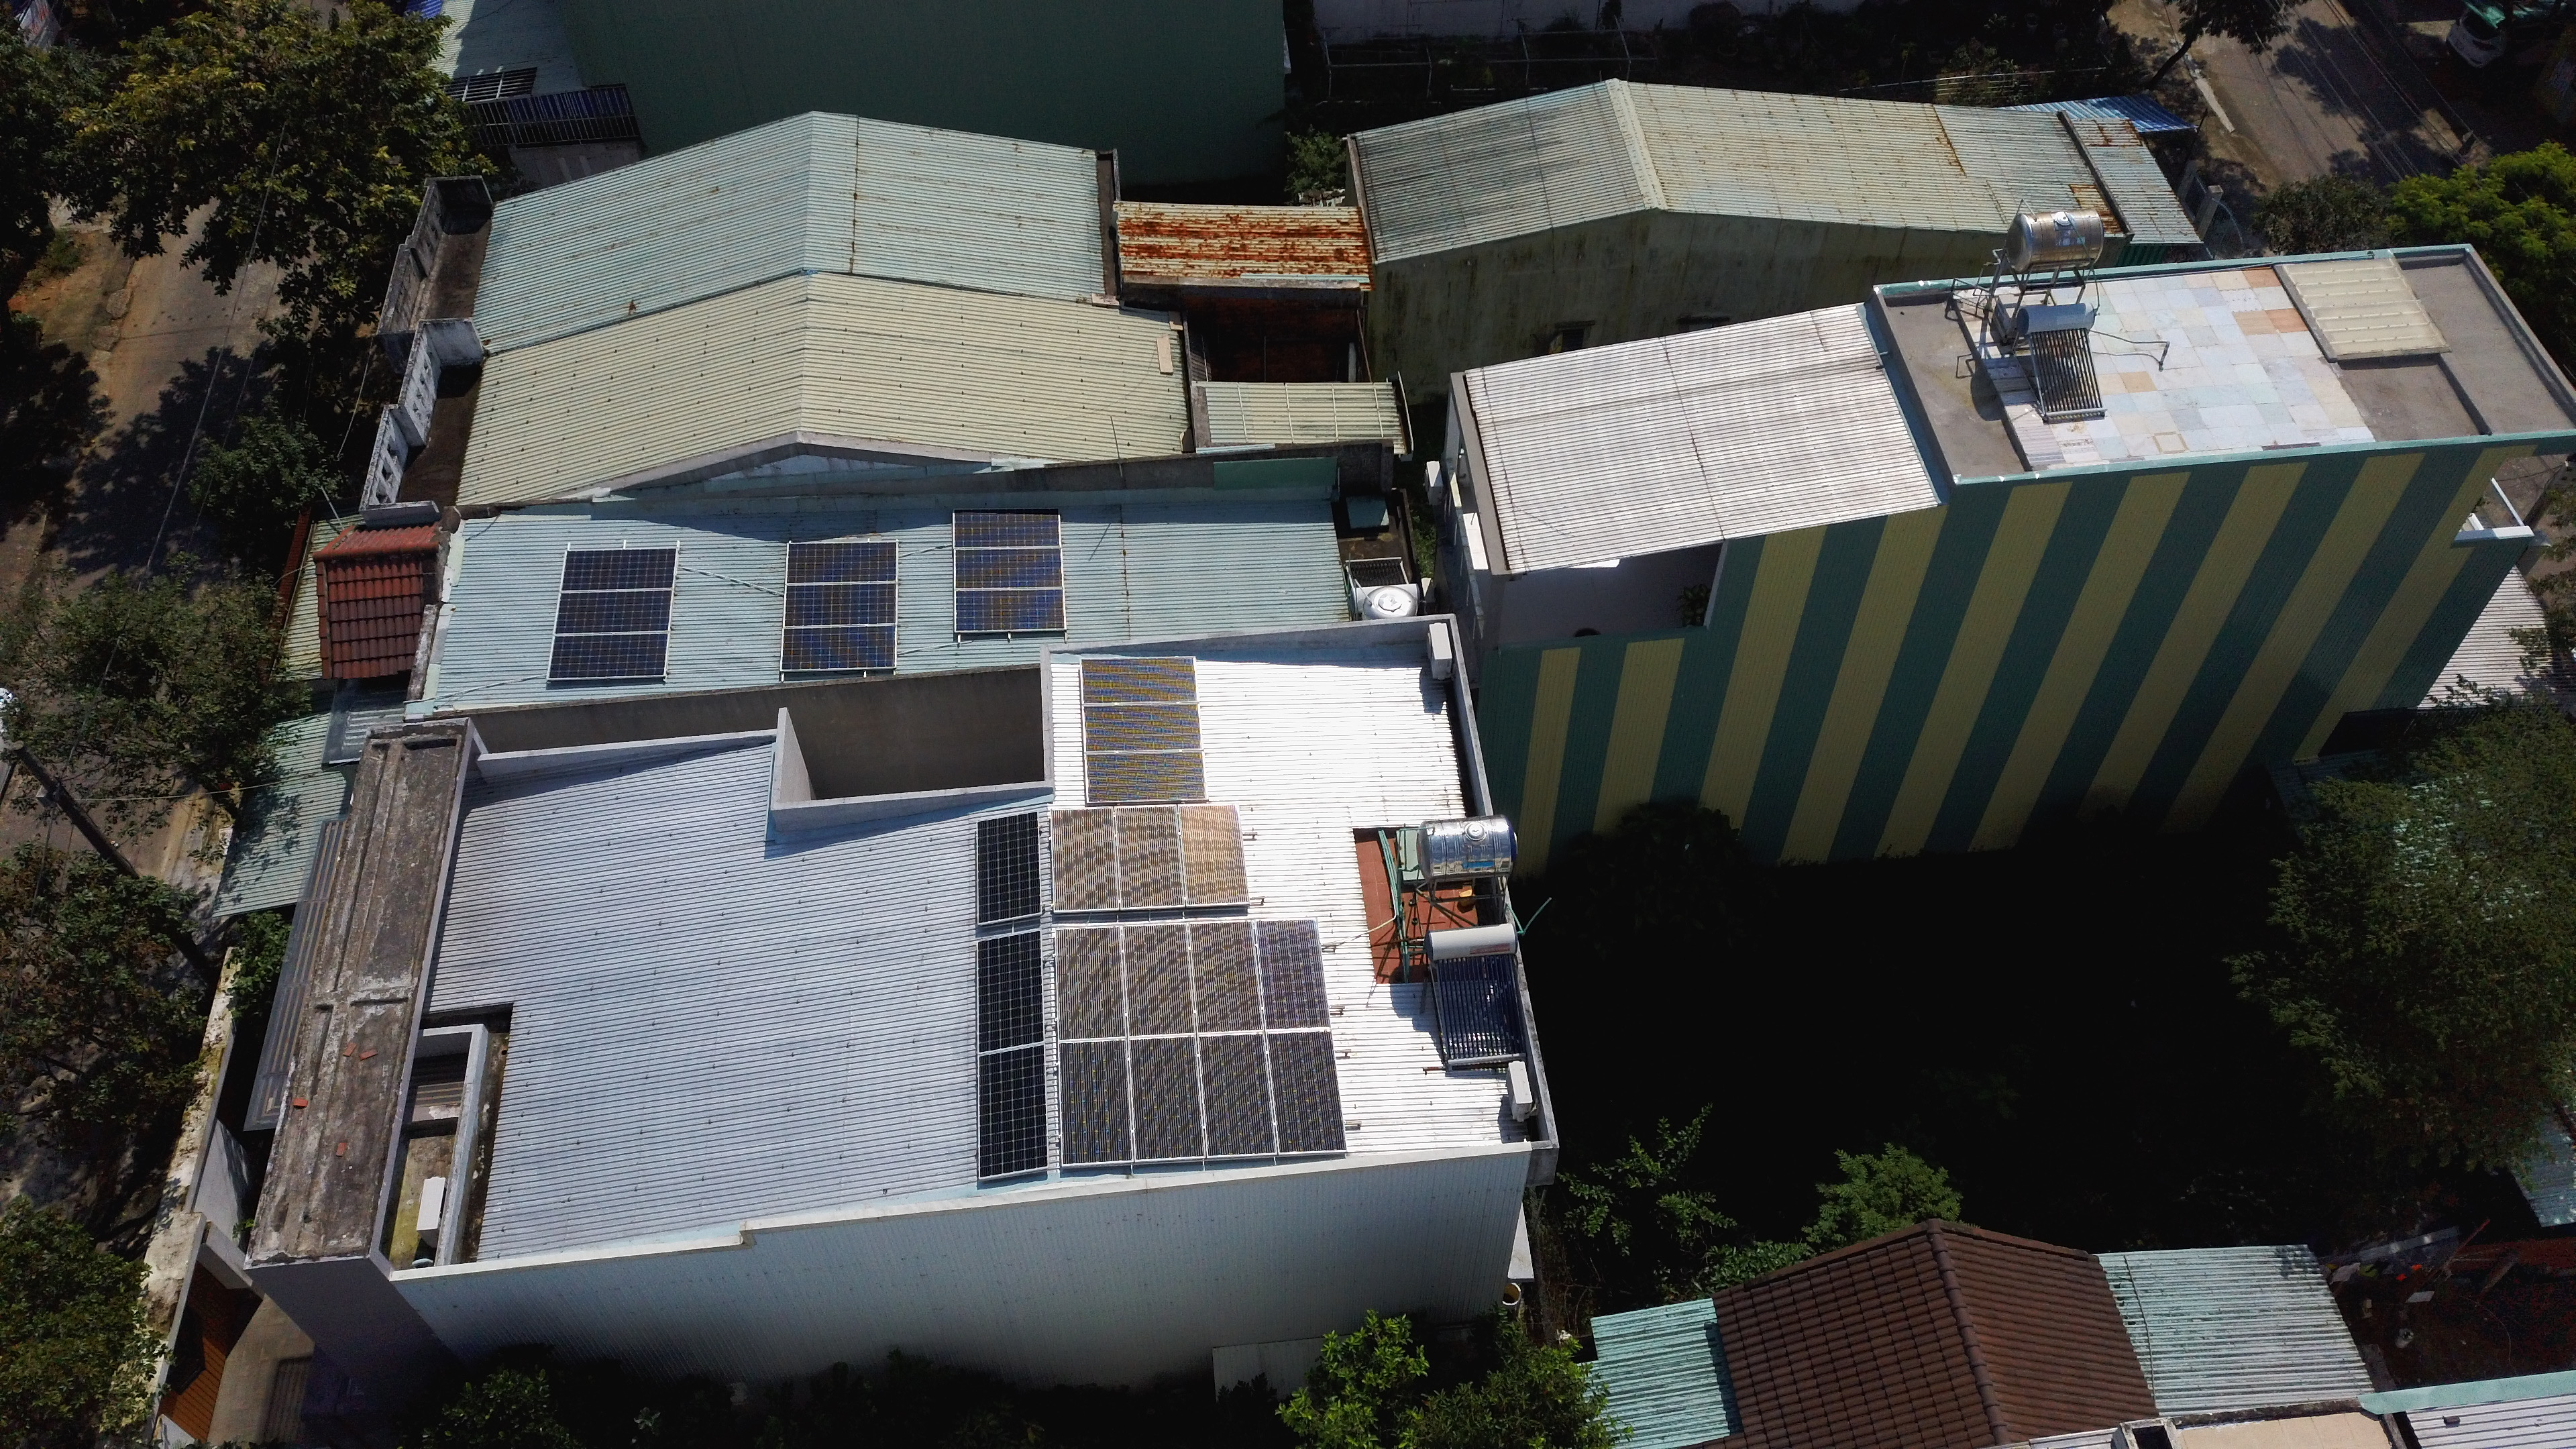solar: (1263, 1028, 1350, 1155), (1123, 1035, 1207, 1162), (1196, 1031, 1279, 1157), (977, 1042, 1049, 1178), (1060, 1039, 1134, 1166), (1118, 922, 1200, 1037), (1189, 918, 1267, 1033), (1254, 916, 1332, 1031), (1054, 924, 1129, 1040), (977, 927, 1044, 1054), (1175, 803, 1251, 906), (1115, 805, 1187, 911), (975, 809, 1040, 925), (1053, 805, 1118, 913), (1083, 750, 1207, 801), (1079, 655, 1200, 706), (1081, 704, 1201, 754), (780, 625, 899, 672), (784, 538, 901, 586), (782, 580, 899, 628), (547, 632, 667, 678), (557, 547, 676, 591), (554, 591, 672, 635), (952, 545, 1065, 591), (950, 506, 1062, 552), (954, 589, 1069, 633)
